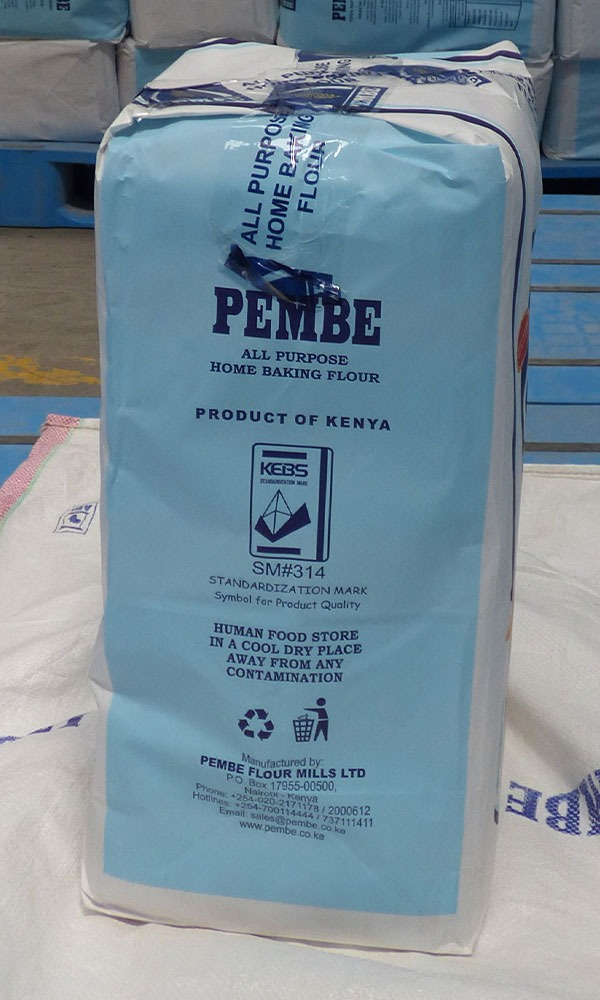wheat_flour_blue_label: (96, 48, 512, 955)
